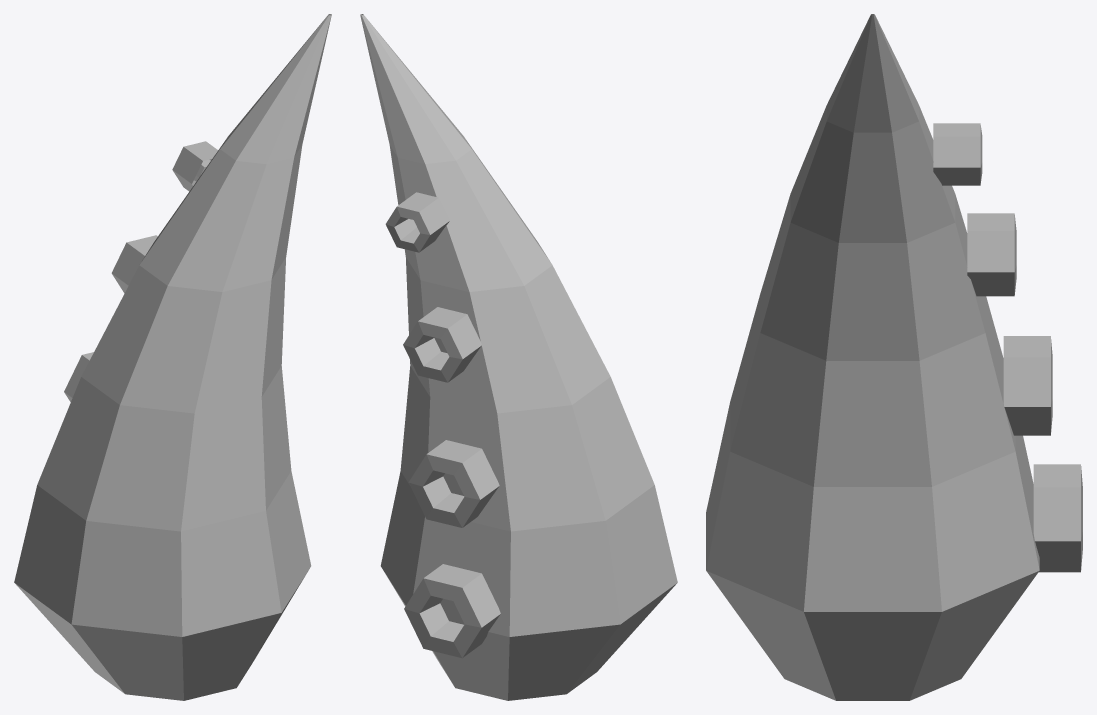
File: tentacle.obj
3 renders of one model, left to right at view 1: azimuth 30°, elevation 25°; view 2: azimuth 150°, elevation 25°; view 3: azimuth 270°, elevation 25°, orthographic. The views are drawn at different scales.
Parts seen in each view (by area): view 1: tentacle; view 2: tentacle; view 3: tentacle.
Boxes of the visible parts, left/top/right/bottom form: tentacle: left=14, top=14, right=331, bottom=700; tentacle: left=360, top=14, right=677, bottom=700; tentacle: left=706, top=14, right=1082, bottom=700.
Bounding box in the file's own units: 0.2123 × 0.432 × 0.1992.
Materials: 1 (1 with a texture image).
